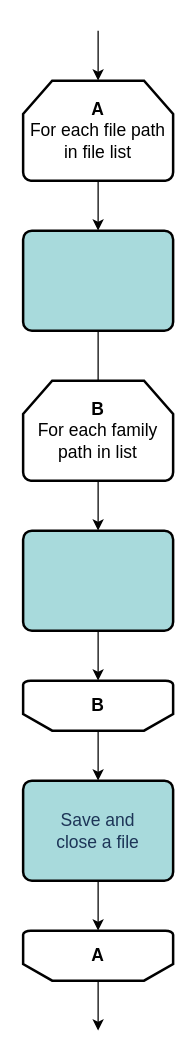
Image size: 195x1063. Some labels were removed from this diagram. Each missing label, with the centre of its shape:
"Load family" goes at pixel 97 580.
"Open file in Revit" goes at pixel 97 280.
